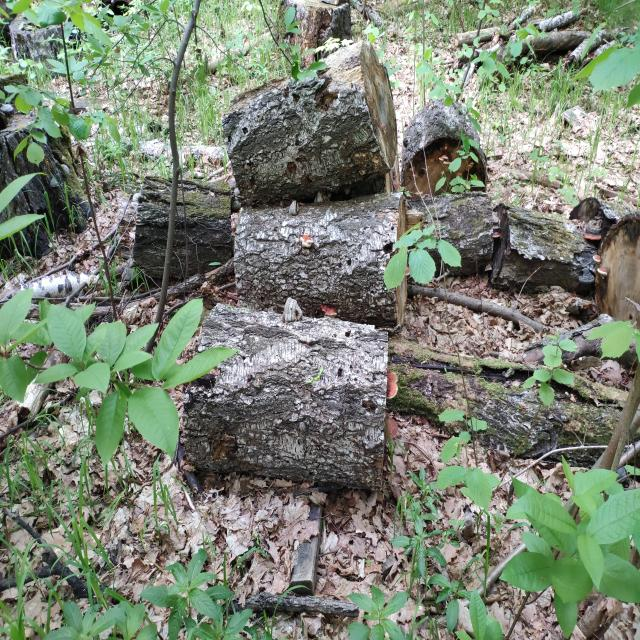restos de madeira: (175, 314, 395, 482), (388, 333, 640, 467), (218, 40, 396, 192), (230, 203, 413, 329), (136, 167, 241, 290), (494, 194, 600, 294), (397, 86, 491, 198), (400, 278, 563, 338), (406, 188, 499, 280), (590, 208, 636, 326), (0, 251, 89, 305), (569, 198, 640, 236), (497, 442, 609, 466)
